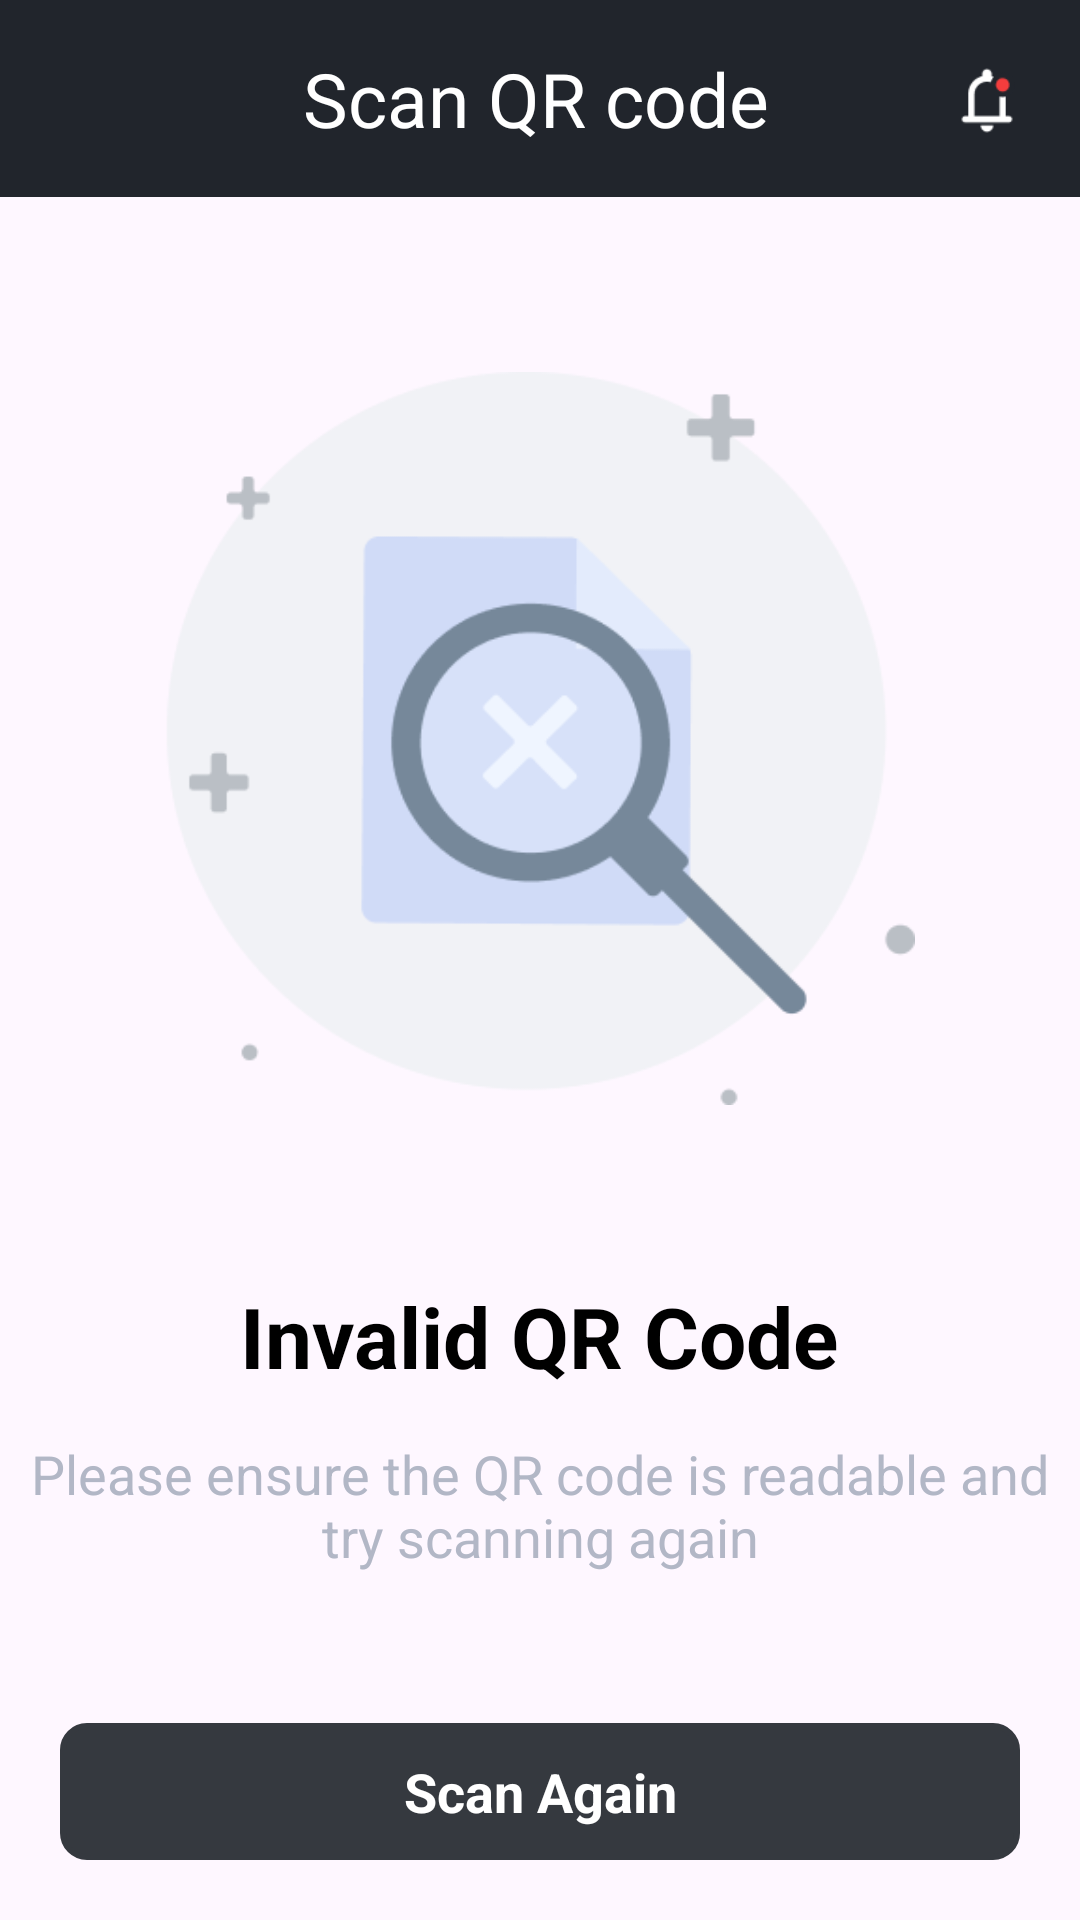

Icons on this 1080 x 1920 Android screen, each with its box as (x1, y1, x2, y2):
bell: (961, 68, 1013, 133)
